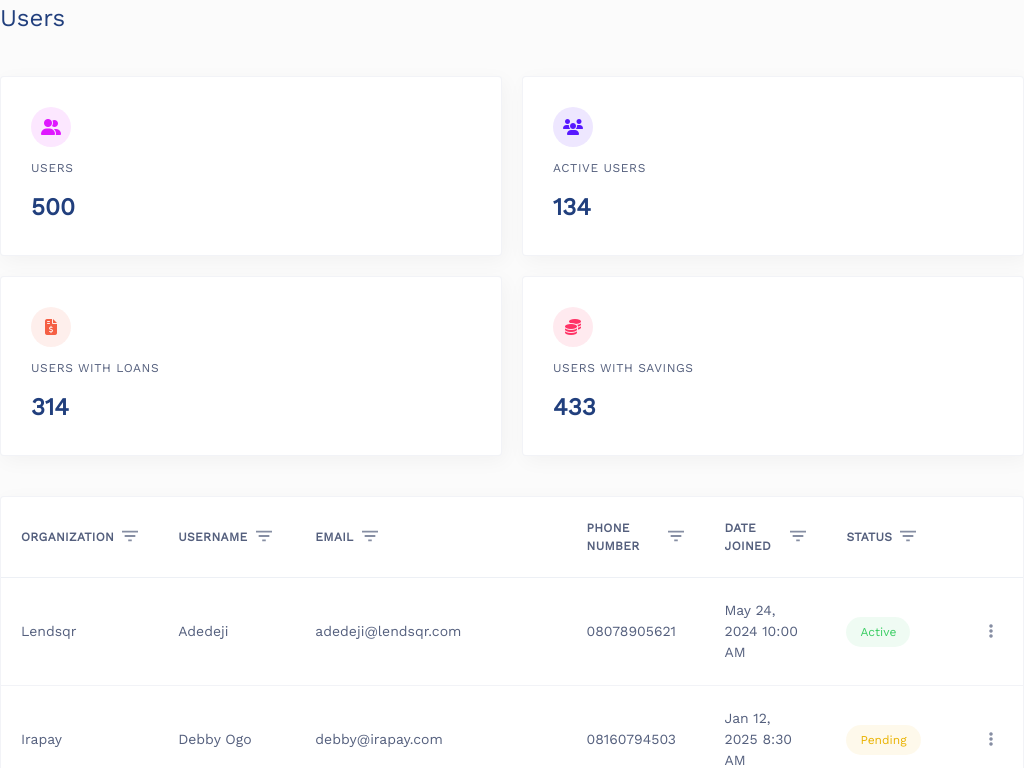
Test case: Users Page › opens confirmation modal when blacklisting a user and commits change on confirmation
// Let's click the actions button for the second row (Debby Ogo)
Click the button named "view actions menu" in the row of "Debby Ogo".
click(991, 740)  # box [979,726,1003,753]
(page scrolled)
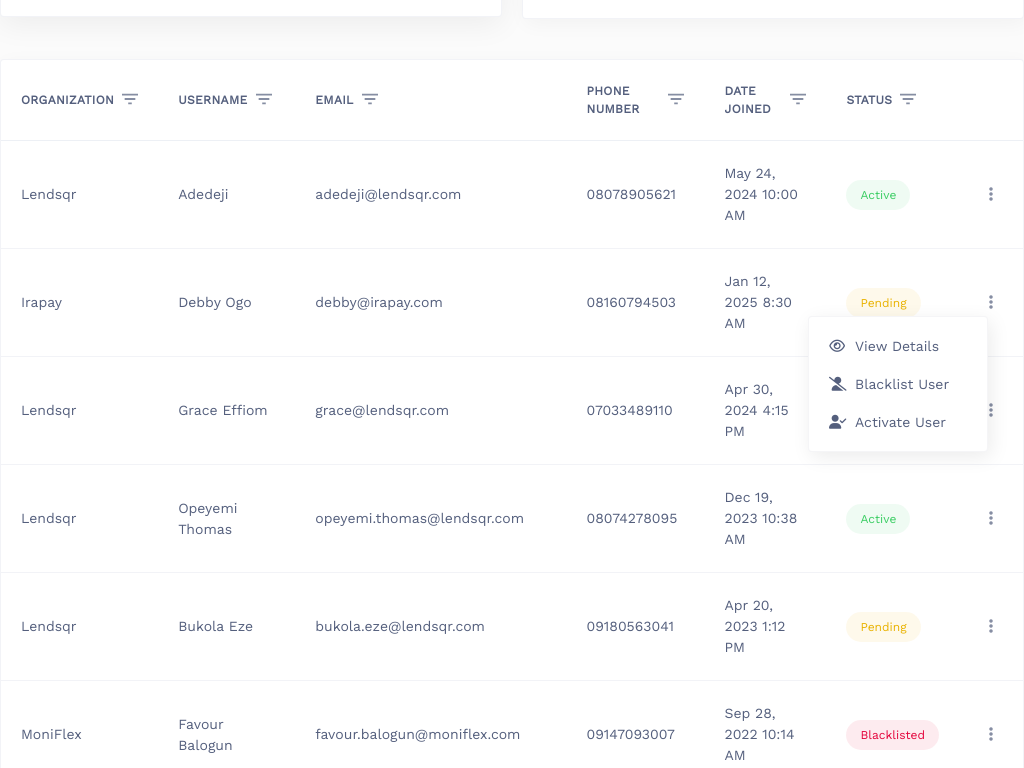
// Click "Blacklist User" dropdown item
Click the button "Blacklist User".
click(898, 384)  # box [809,365,987,403]
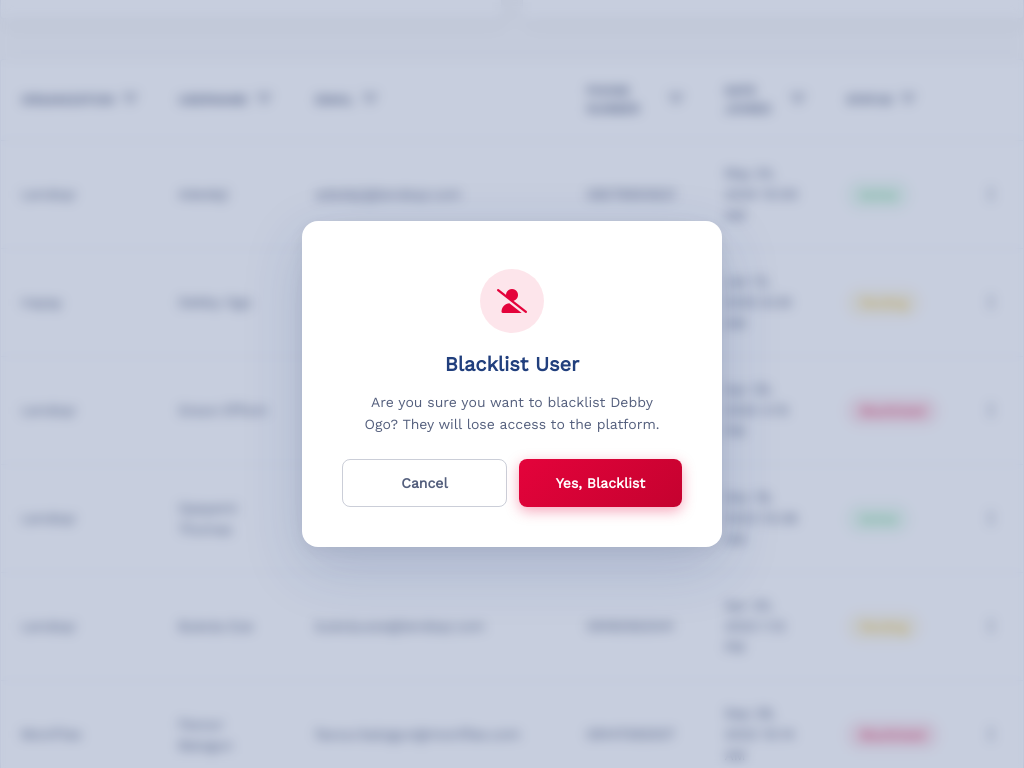
Expected: the heading "Blacklist User" is shown, [445,351,579,377]
Expected: the text "Are you sure you want to blacklist Debby Ogo?" is shown, [364,394,659,432]
// Click confirm in modal
Click the button "Yes, Blacklist".
click(600, 483)  # box [519,459,682,507]
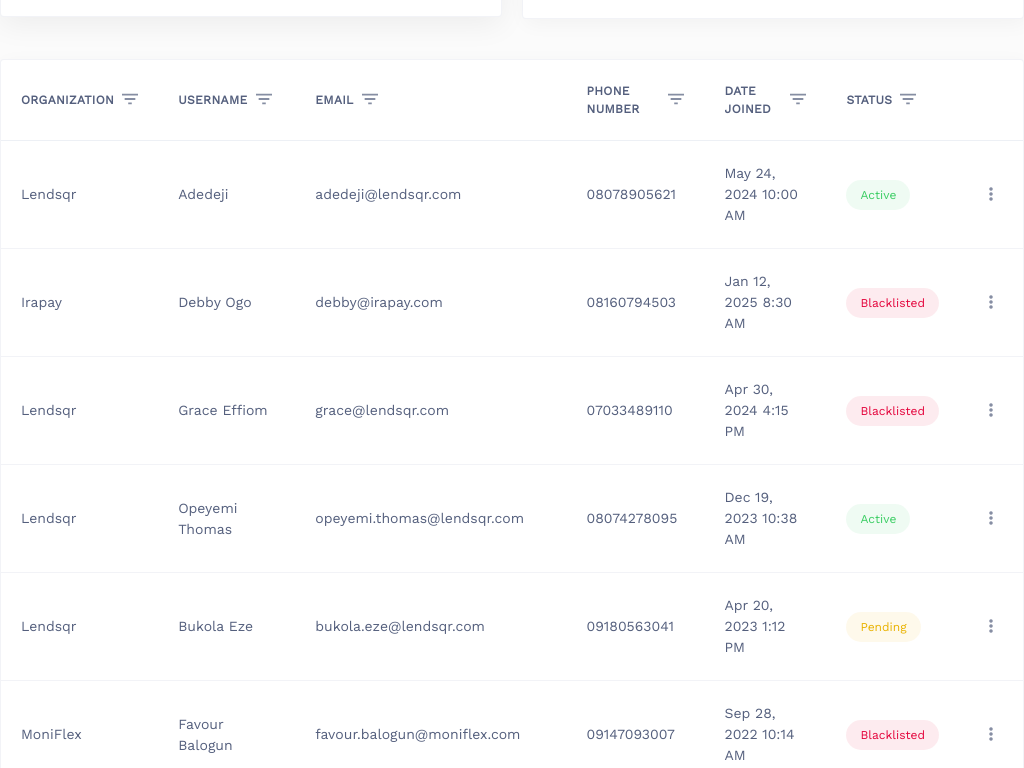
Expected: the heading "Blacklist User" is gone
